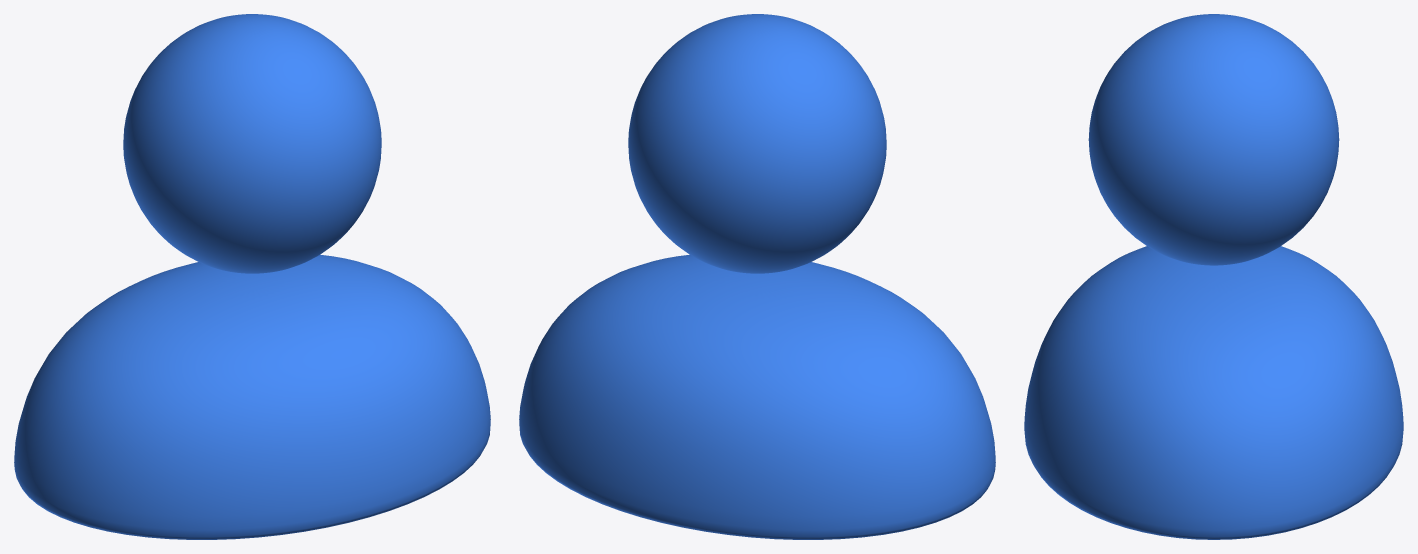
File: youherered.glb
3 views of the same model, side by side, from view 1: azimuth 30°, elevation 25°; view 2: azimuth 150°, elevation 25°; view 3: azimuth 270°, elevation 25° (orthographic). The views are drawn at different scales.
Parts seen in each view (by area): view 1: Object_2; view 2: Object_2; view 3: Object_2.
Part boxes in pixels (x1,y1,x2,y2): Object_2: (14, 14, 490, 539); Object_2: (519, 14, 995, 539); Object_2: (1024, 14, 1403, 539).
Bounding box in the file's own units: 1.43 × 1.35 × 1.11.
